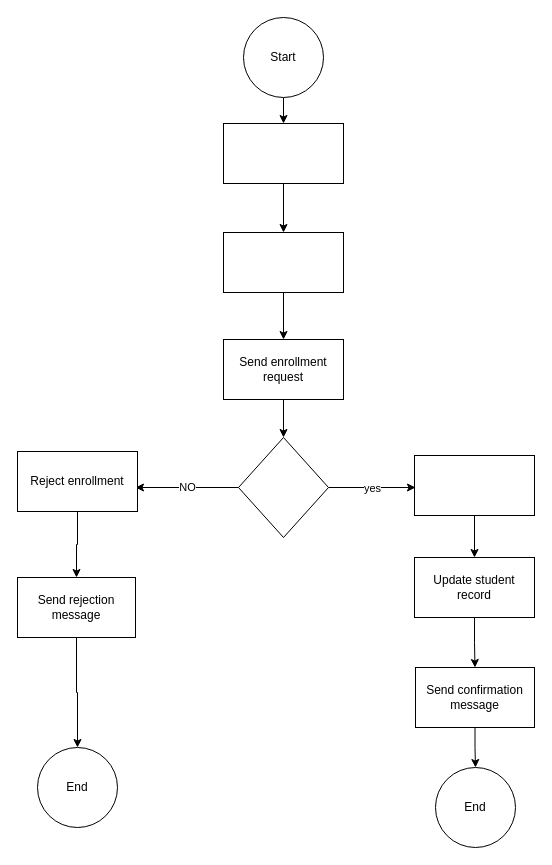
The diagram is 552 pixels wide and 865 high, and some of its shapes have lost their labels. Each missing label, with the centre of its shape:
Are prerequisites met?: point (283, 487)
Browse available courses: point (283, 153)
Enroll student: point (474, 485)
Select desired course: point (283, 262)
